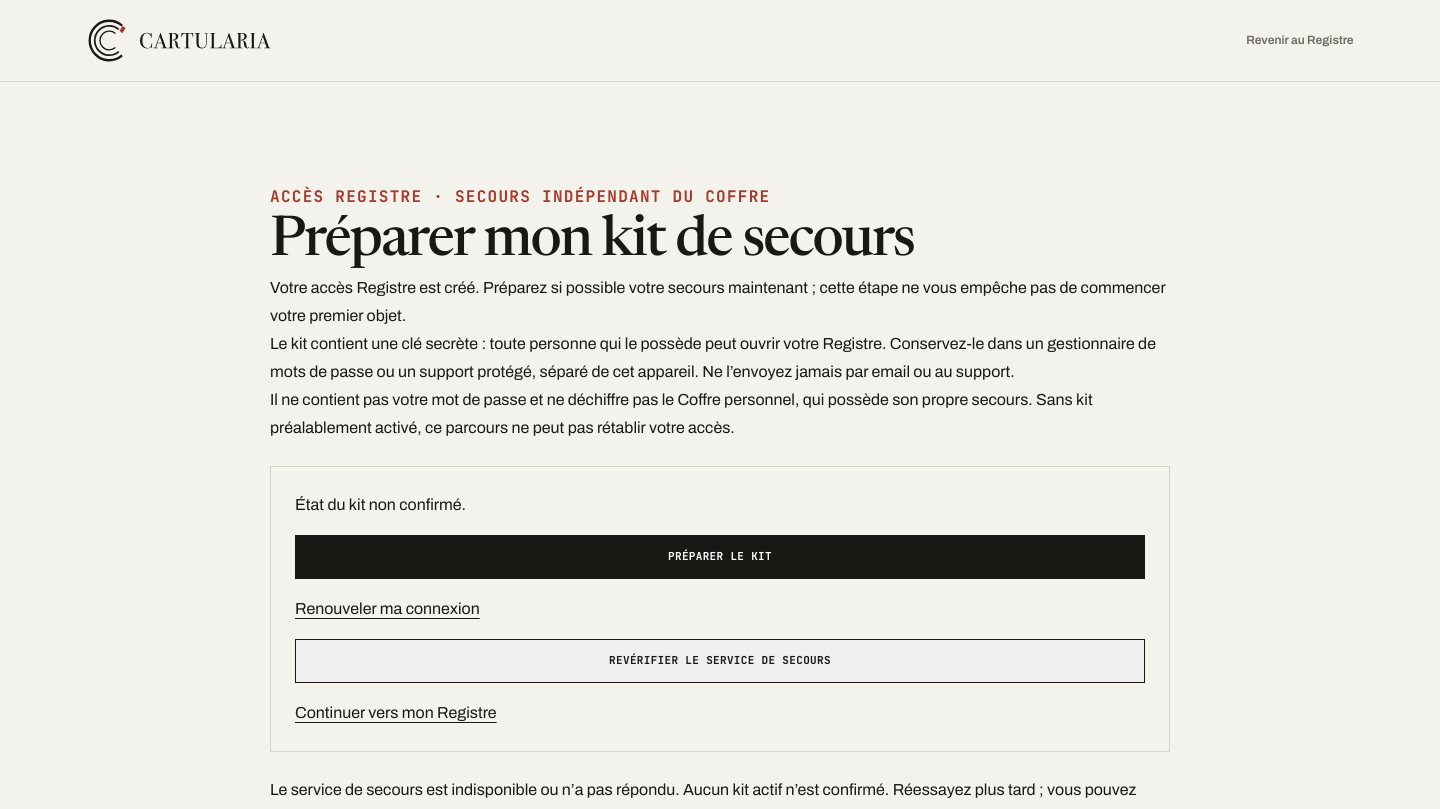
Test case: entrée du secours après création du compte › explique une panne de service sans prétendre que le kit est absent, et permet de poursuivre ou réessayer
Expected: the text "Aucun kit actif :" is not shown
Expected: the button "Préparer le kit" is disabled, [295,534,1145,578]
Click the button "Revérifier le service de secours" at (720, 660), box [295,638,1145,682]
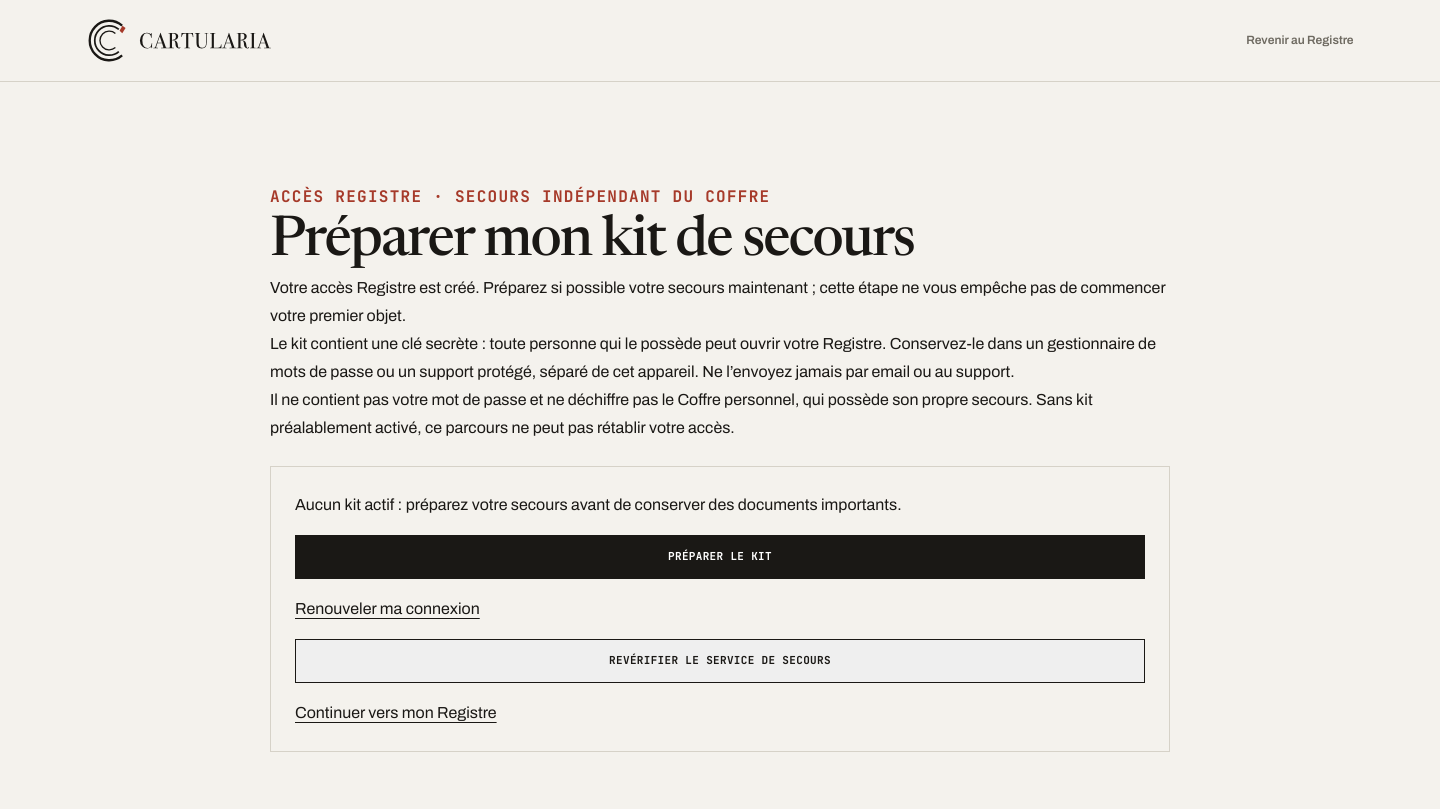
Expected: the button "Préparer le kit" is enabled, [295,534,1145,578]
Now the text "Aucun kit actif :" is shown, box [295,496,902,512]
